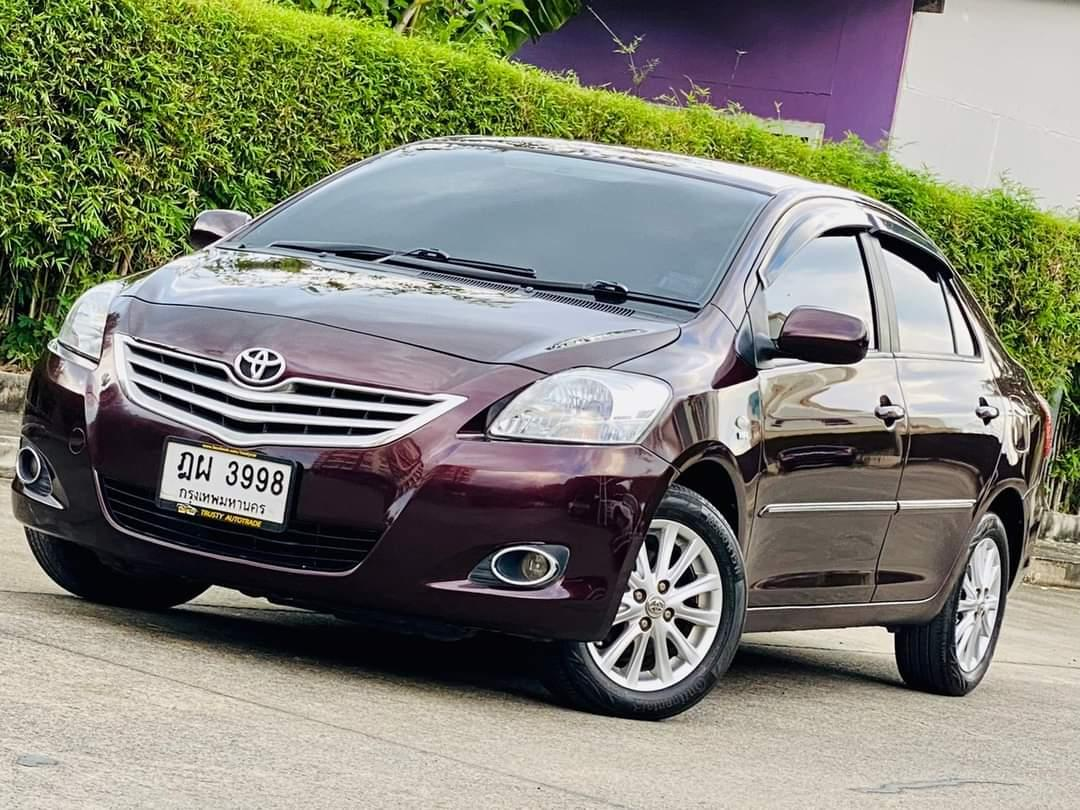license-plate: (153, 432, 298, 538)
